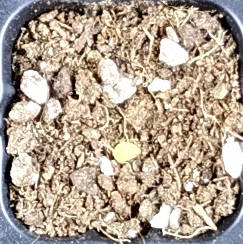pepper seed: (41, 60, 183, 223)
